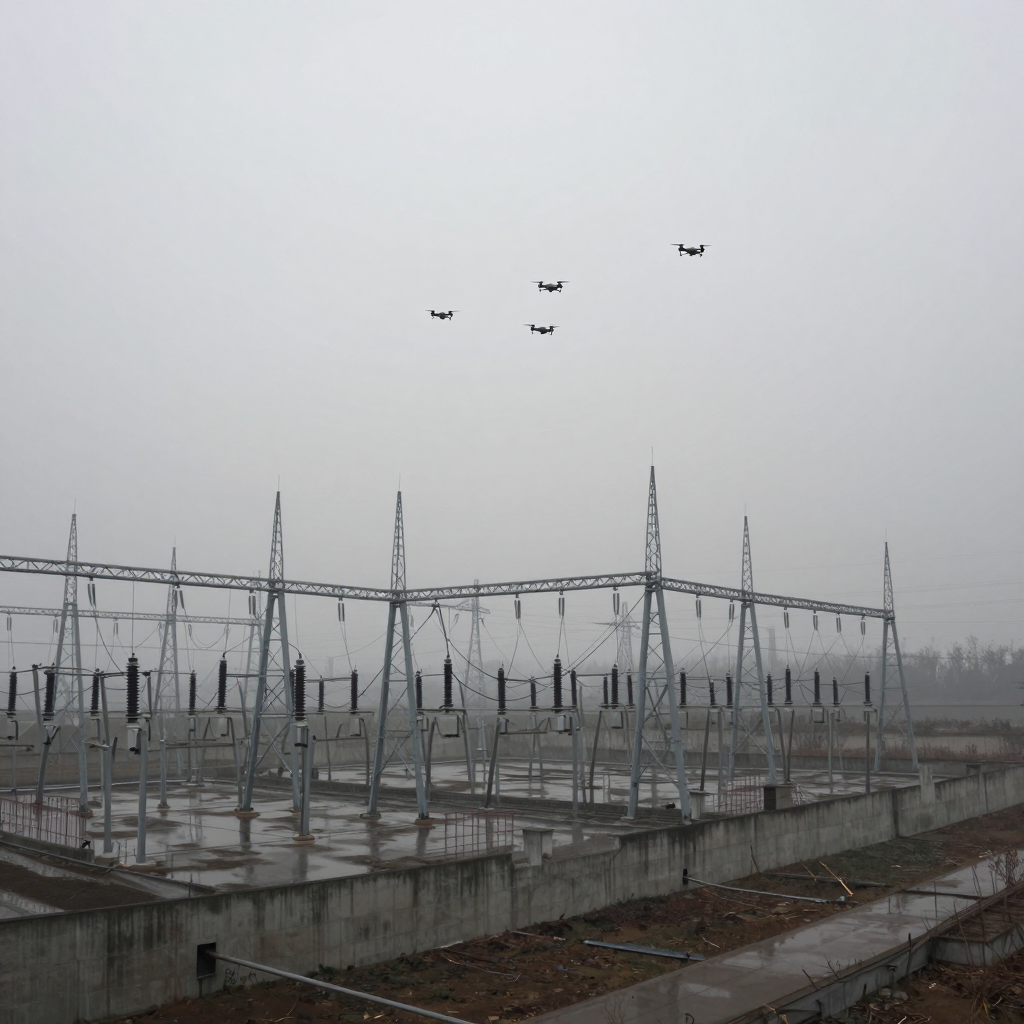drone: (670, 243, 711, 257), (531, 280, 570, 293), (523, 324, 560, 335), (425, 310, 460, 320)
